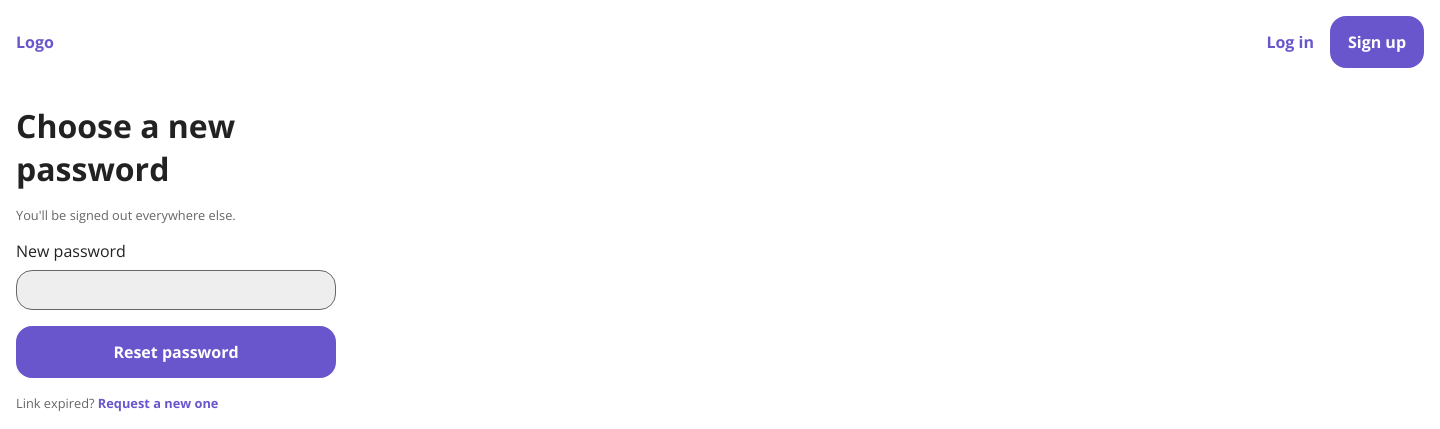
Test: Password reset › sets a new password from the emailed link and signs in
Type "new-password-456" into the password field labelled "New password" at (176, 290), box [16,270,336,310]
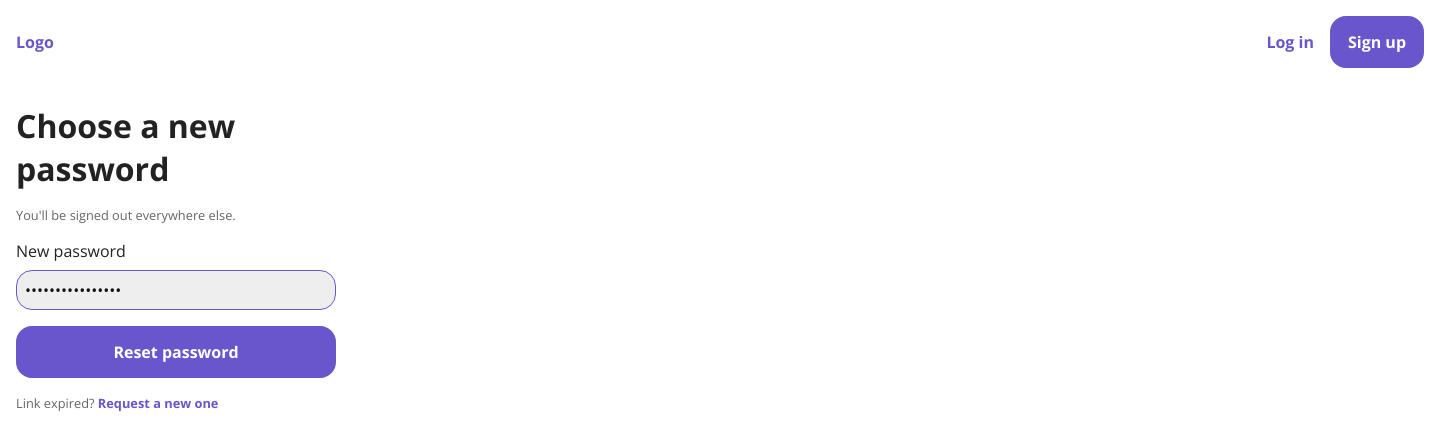
Click the button "Reset password" at (176, 352), box [16,326,336,378]
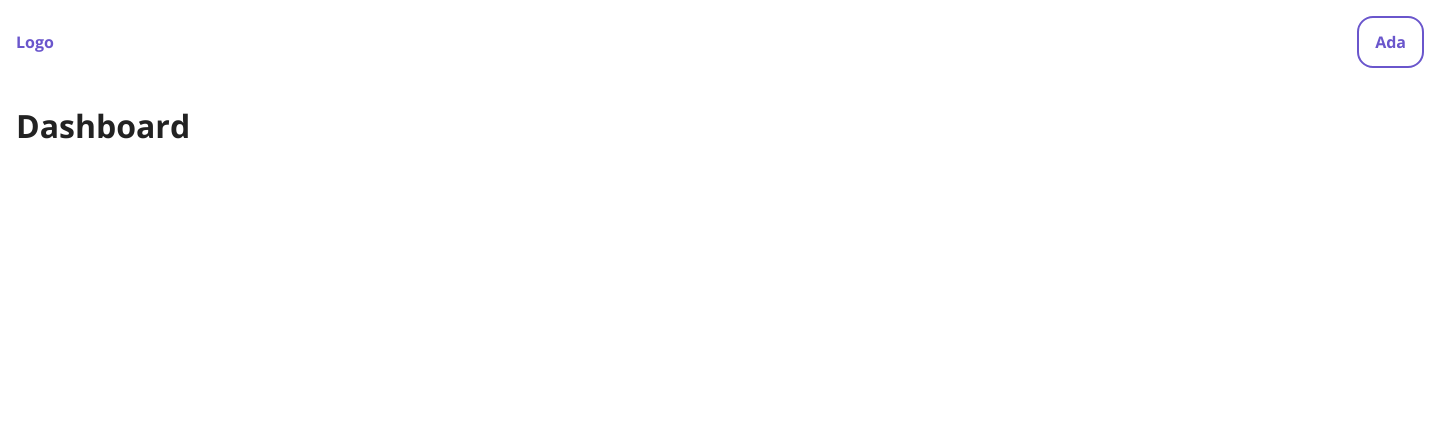
Expected: the heading "Dashboard" is shown, [16,104,190,147]
